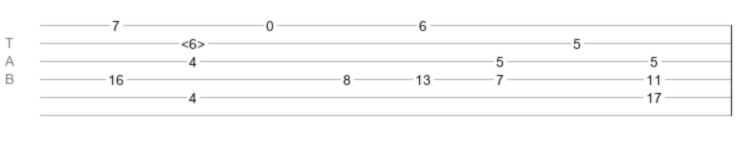0: (266, 18, 274, 28)
11: (646, 72, 662, 82)
13: (415, 72, 431, 82)
16: (108, 72, 124, 82)
17: (646, 90, 662, 100)
4: (189, 90, 197, 100), (189, 54, 197, 64)
5: (496, 54, 504, 64), (573, 36, 581, 46), (650, 54, 658, 64)
6: (419, 18, 427, 28)
7: (112, 18, 120, 28), (496, 72, 504, 82)
8: (343, 72, 351, 82)
harmonic: (181, 36, 205, 46)
